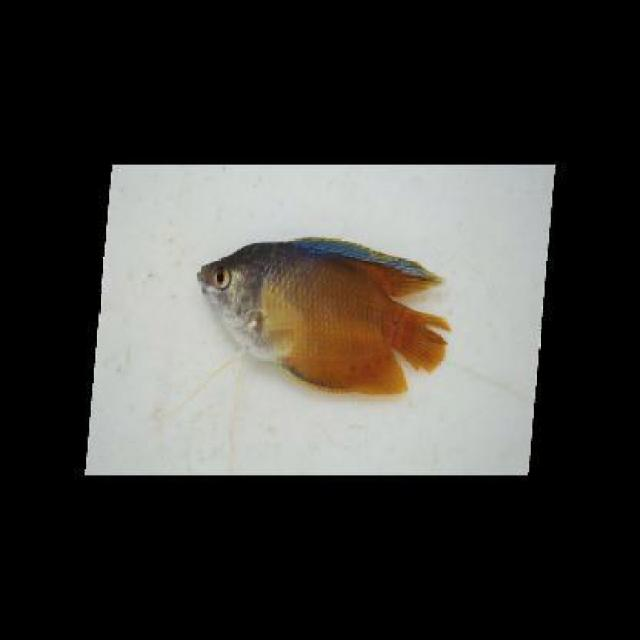Gourami: (194, 230, 452, 398)
